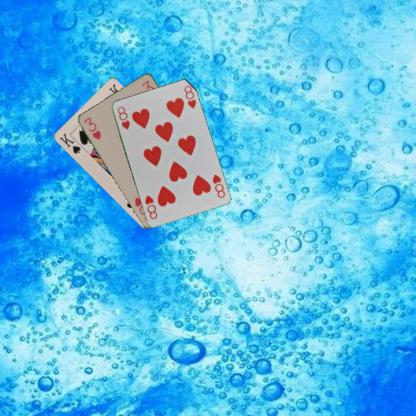3h: (81, 114, 102, 141)
8h: (209, 171, 226, 199), (115, 104, 132, 130)
Ks: (56, 130, 82, 155)
